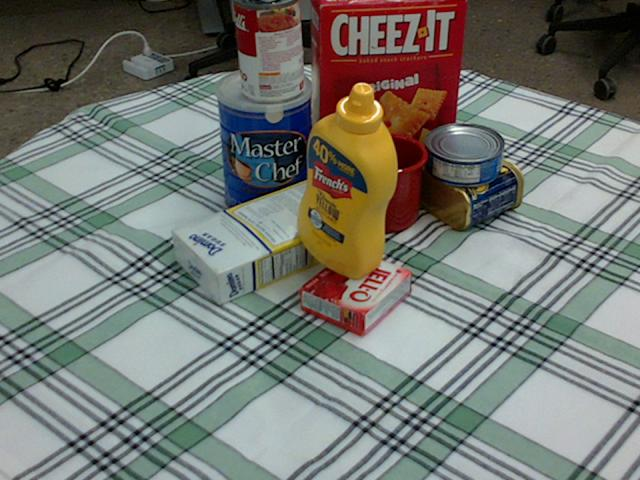cracker_box: (311, 0, 466, 181)
gelatin_box: (300, 248, 412, 335)
master_chef_can: (214, 66, 312, 221)
mug: (342, 130, 428, 231)
mustard_bottle: (297, 82, 397, 278)
potted_meat_can: (407, 136, 521, 226)
sugar_box: (169, 177, 360, 304)
tomato_soup_can: (234, 0, 303, 101)
tuna_fish_can: (424, 124, 503, 185)
